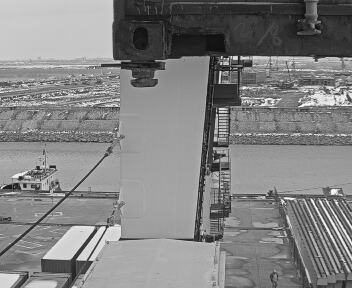twist_lock_1: (169, 157, 231, 200)
